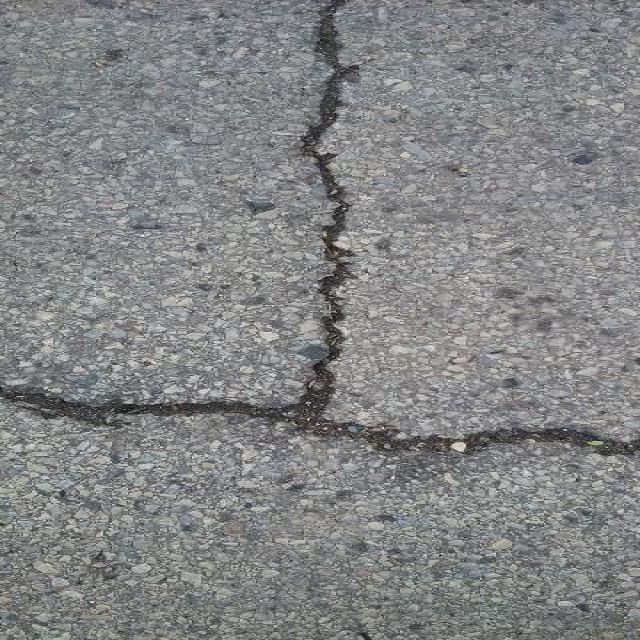GRIETA: (0, 384, 599, 451), (300, 0, 359, 407), (602, 438, 639, 454)
